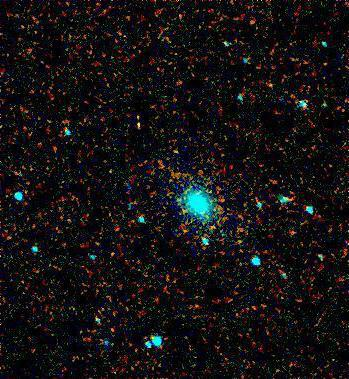star: (41, 222, 71, 252)
